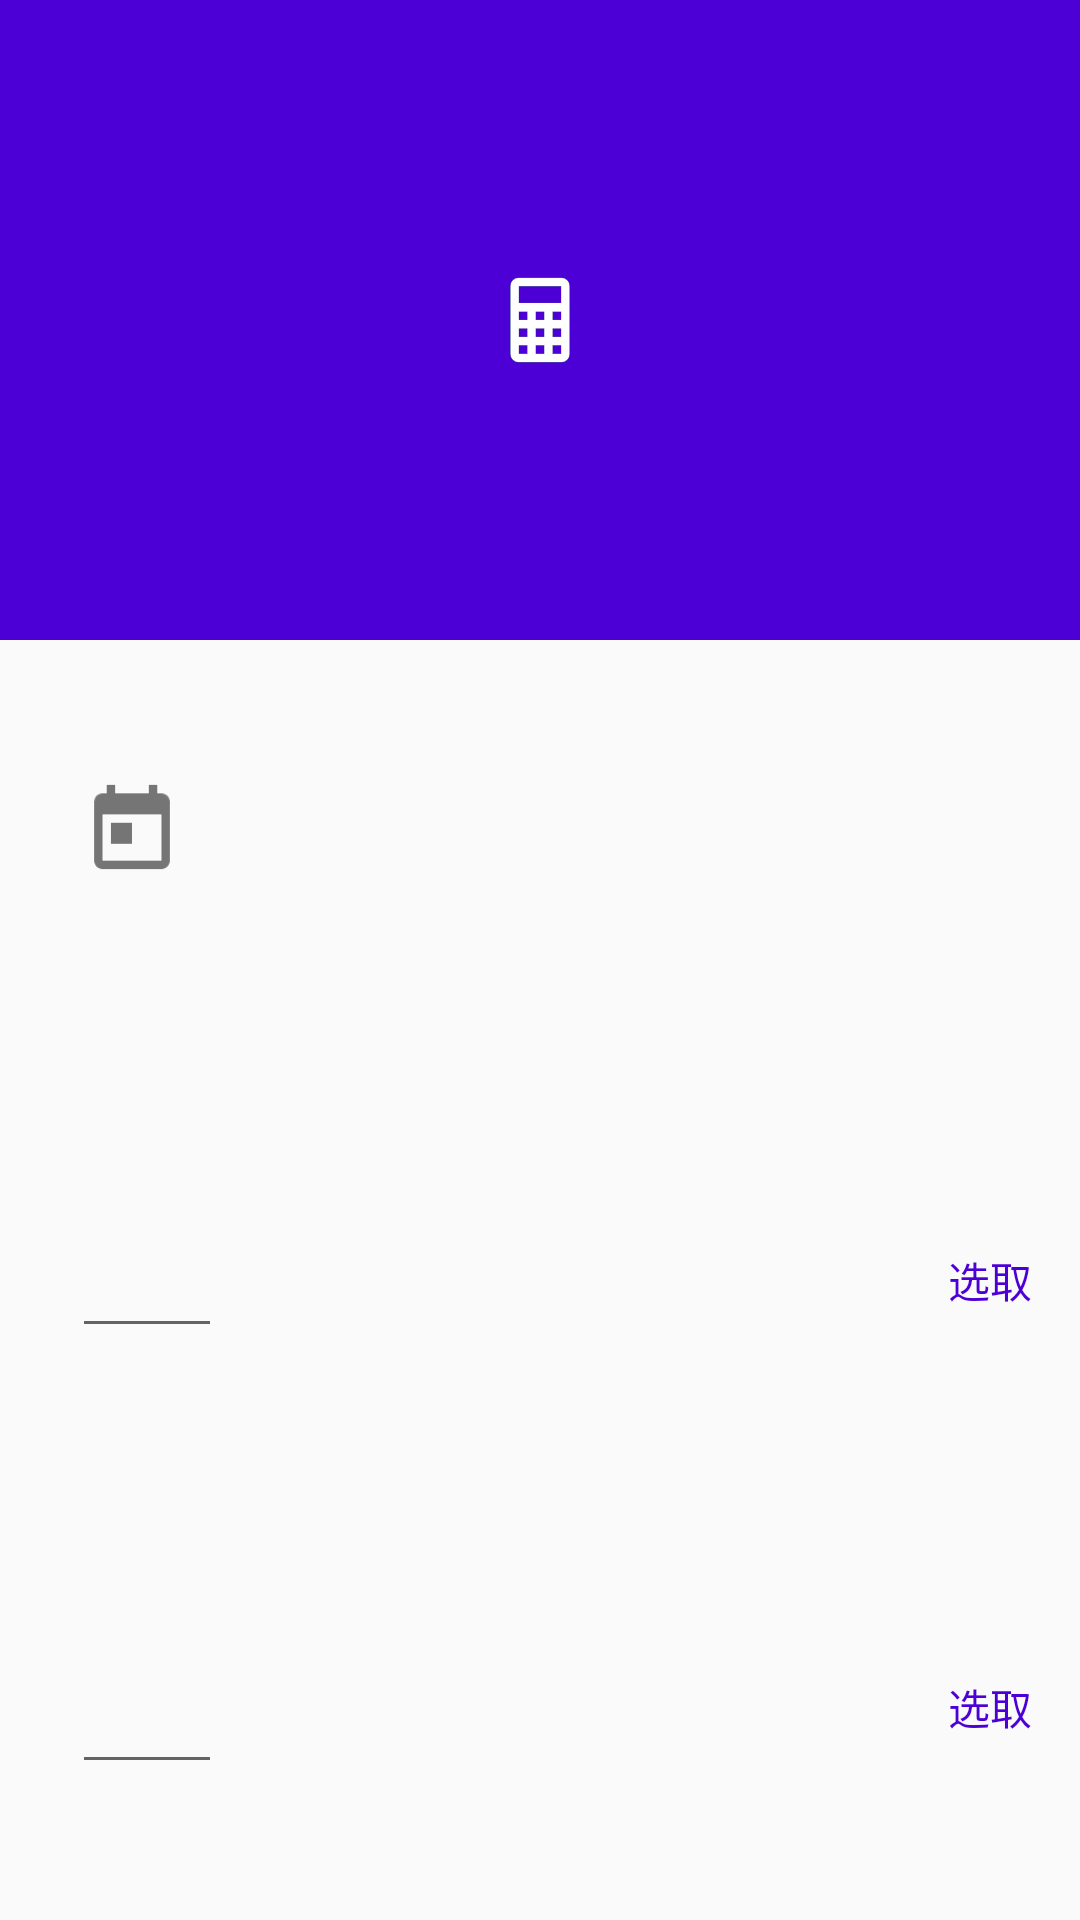

Icon click points for this 1080 × 1920 phone screenshot, format (x,y):
calculator: (540,320)
date: (132,827)
